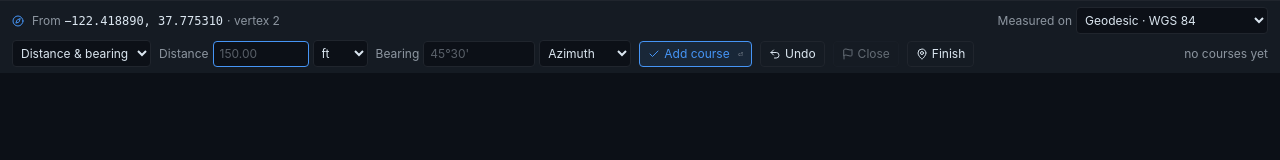
Test: TraverseBar › refuses an ambiguous pair by name instead of guessing
Select "Tangent curve" in the dropdown titled "What kind of course": (82, 54) left=12, top=40, right=151, bottom=67
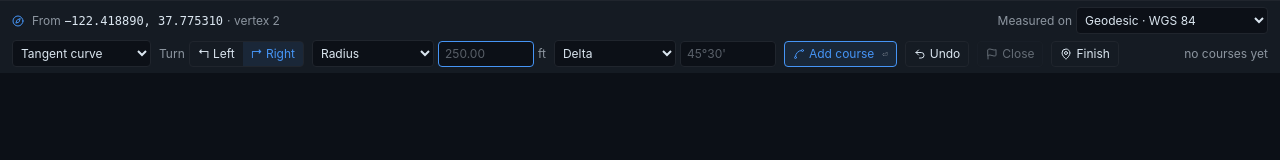
Select "Tangent" in the dropdown with test id "draw.traverse.curve.aId": (373, 54) left=312, top=40, right=434, bottom=67
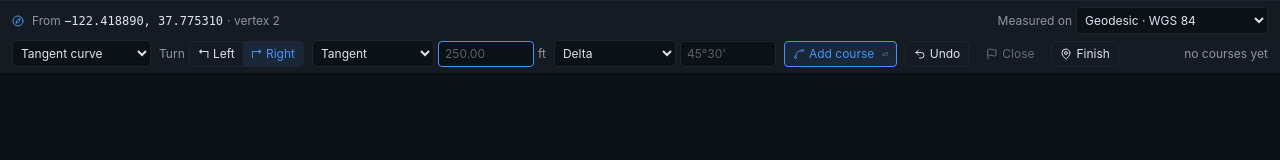
Select "Mid-ordinate" in the dropdown with test id "draw.traverse.curve.bId": (615, 54) left=554, top=40, right=676, bottom=67
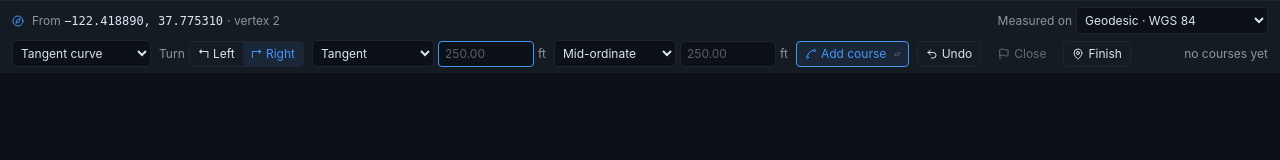
In the field with test id "draw.traverse.curve.a": (486, 54) left=438, top=40, right=534, bottom=66, type "230.9401"
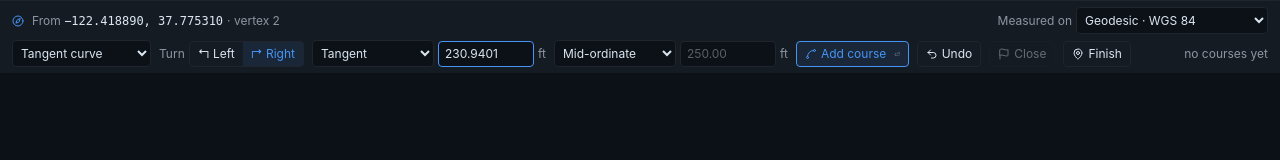
In the field with test id "draw.traverse.curve.b": (728, 54) left=680, top=40, right=776, bottom=66, type "53.5898"
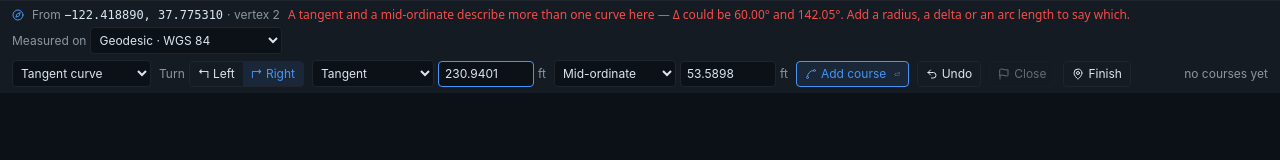
Check: the text "more than one curve" is shown, box left=288, top=6, right=1130, bottom=23
